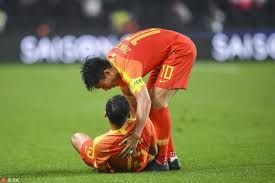fall: (66, 90, 160, 172)
